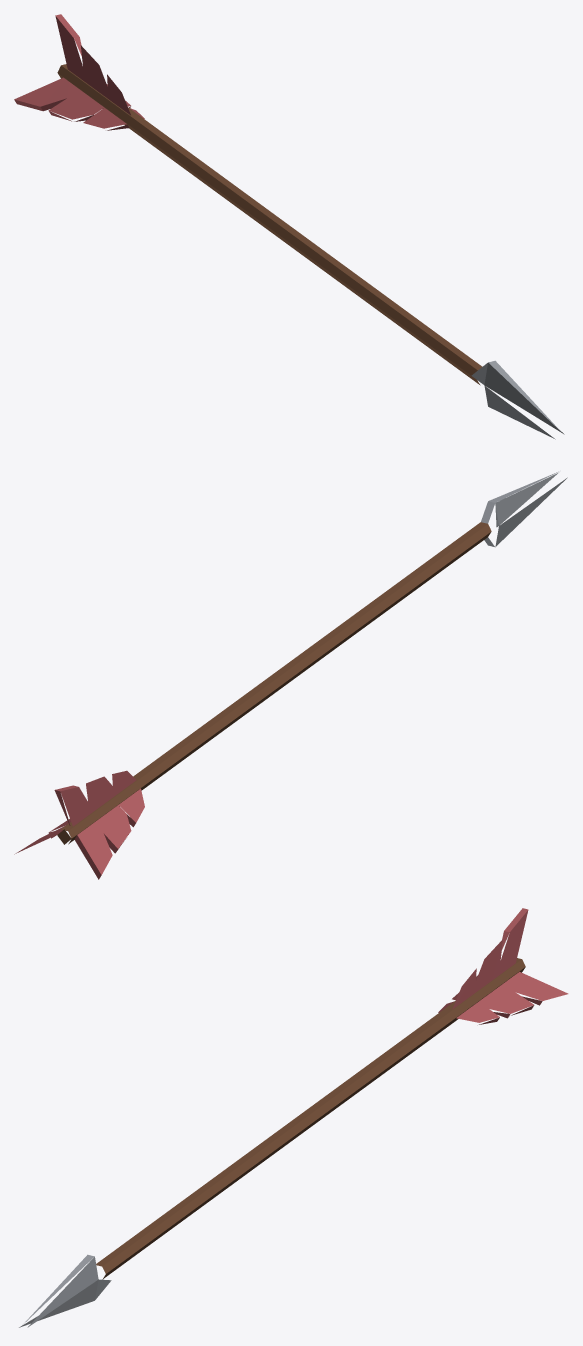
The model's file is arrow.lod.glb.
3 renders of one model, top to bottom at view 1: azimuth 30°, elevation 25°; view 2: azimuth 150°, elevation 25°; view 3: azimuth 330°, elevation 25°, orthographic.
Parts seen in each view (by area): view 1: m; view 2: m; view 3: m.
Boxes of the visible parts, x1,y1,x2,y2 form: m: (14,14,564,439); m: (14,471,567,879); m: (19,908,568,1327).
Size of the model in its own units: 0.0301 by 0.0262 by 0.3001.
